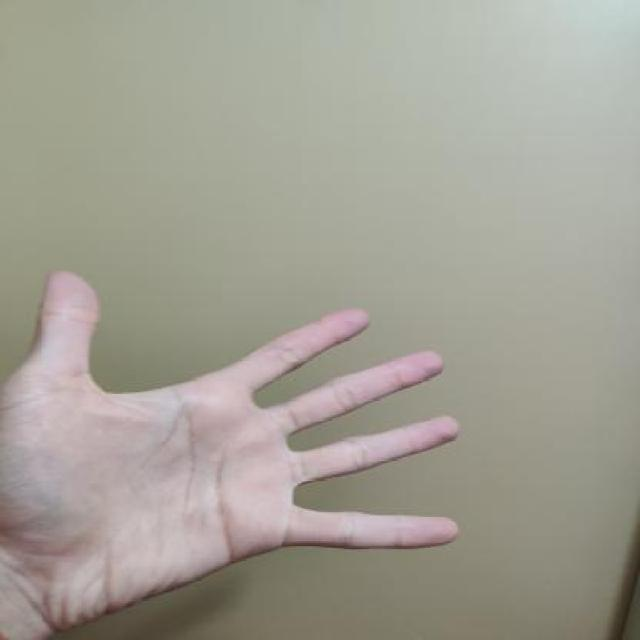bare_hand: (0, 257, 471, 640)
